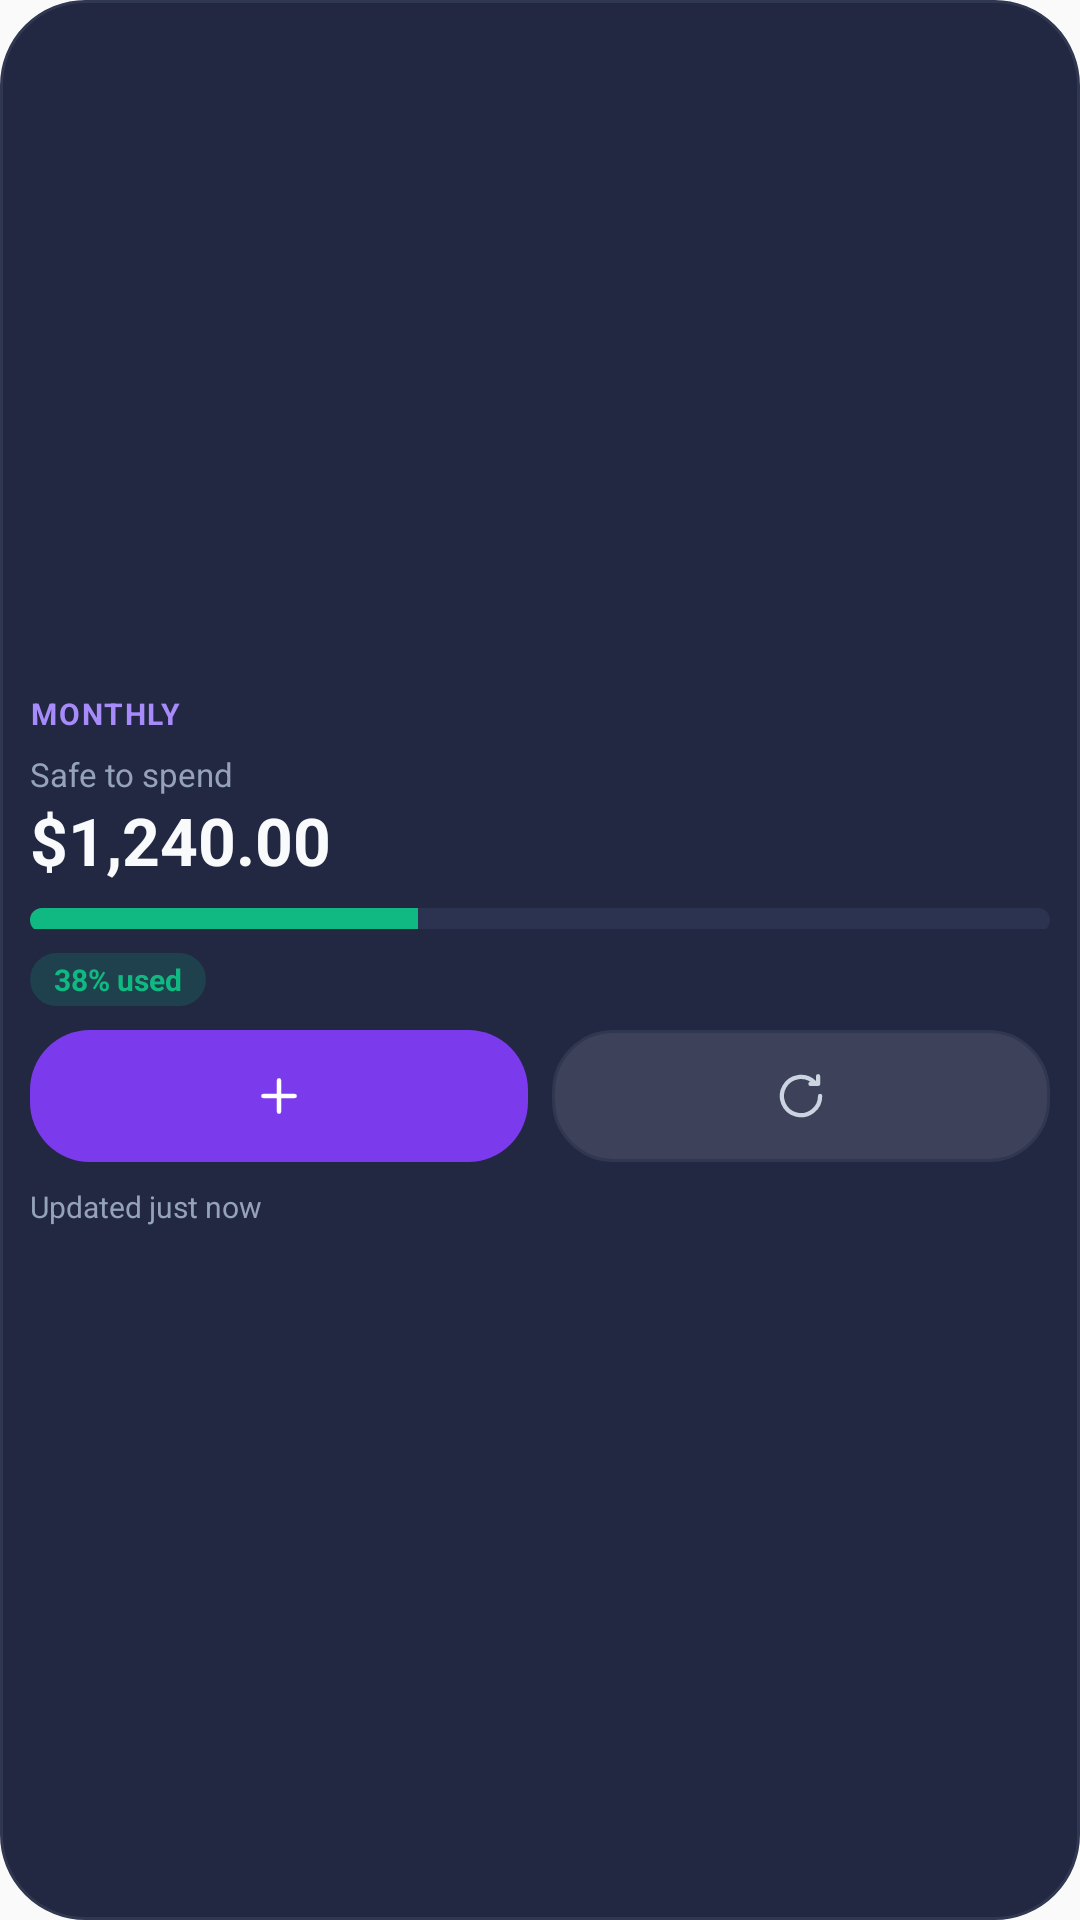

Where to tap for icons on this 1080*1920 app screen, as point (x, y):
widget add: point (279, 1096)
widget refresh: point (801, 1096)
